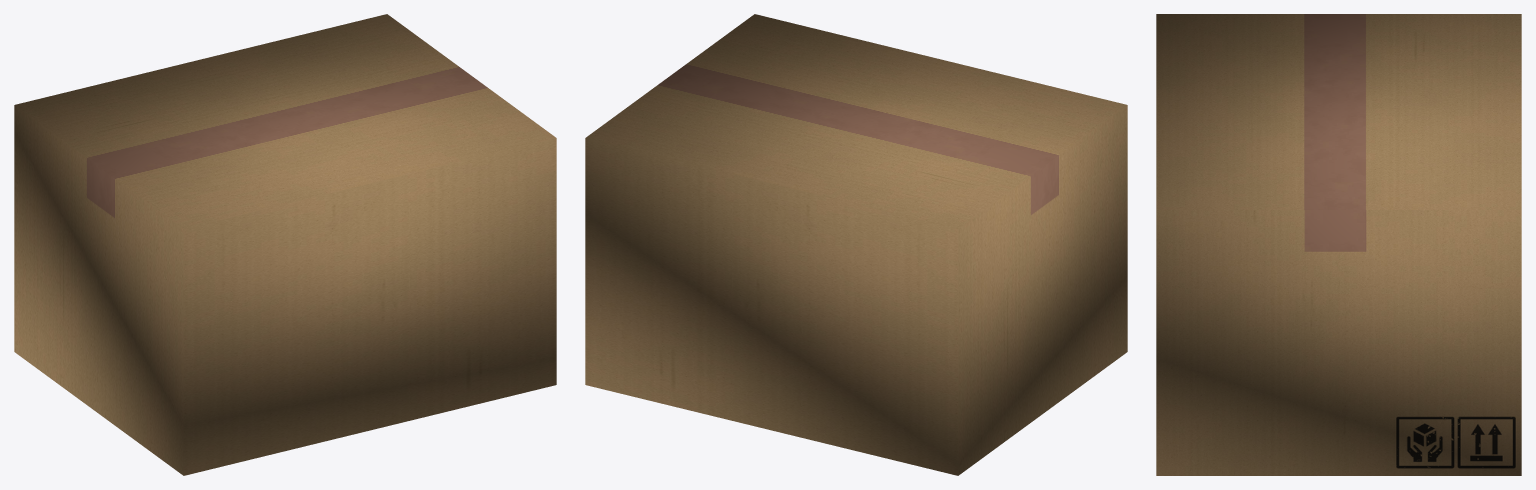
Rendered from cc0_free_cardboard_box.glb.
3 renders of one model, left to right at view 1: azimuth 30°, elevation 25°; view 2: azimuth 150°, elevation 25°; view 3: azimuth 270°, elevation 25°, orthographic. The views are drawn at different scales.
Parts seen in each view (by area): view 1: CardBoardBox; view 2: CardBoardBox; view 3: CardBoardBox.
Part boxes in pixels (x1=…): CardBoardBox: x1=14, y1=14, x2=556, y2=475; CardBoardBox: x1=585, y1=14, x2=1127, y2=475; CardBoardBox: x1=1156, y1=14, x2=1521, y2=475.
Bounding box in the file's own units: 0.747 × 0.4724 × 0.588.
1 material, 1 textured.
